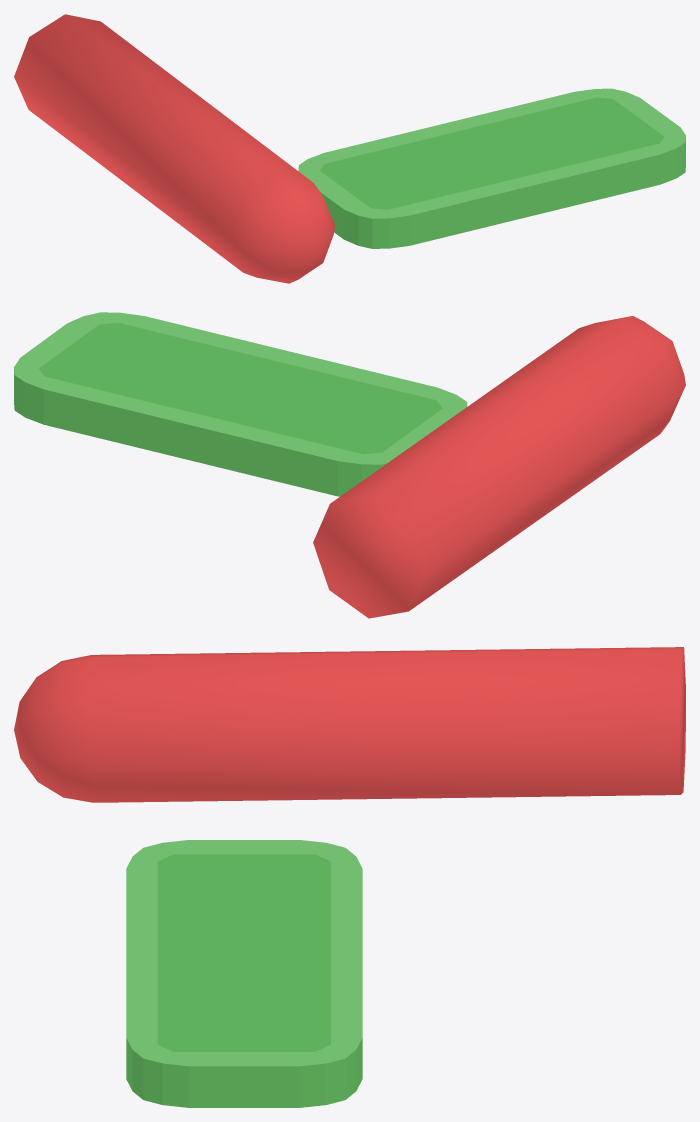
Rendered from potion_button.glb.
3 views of the same model, one above another, from view 1: azimuth 30°, elevation 25°; view 2: azimuth 150°, elevation 25°; view 3: azimuth 270°, elevation 25° (orthographic). The views are drawn at different scales.
Parts seen in each view (by area): view 1: hoja.005; view 2: hoja.005; view 3: hoja.005.
Boxes of the visible parts, box(x1,y1,x2,y2) form: hoja.005: box(14, 14, 685, 283); hoja.005: box(14, 312, 685, 618); hoja.005: box(14, 647, 685, 1107).
Bounding box in the file's own units: 0.6222 × 0.1458 × 0.5401.
Materials: 1 (1 with a texture image).
